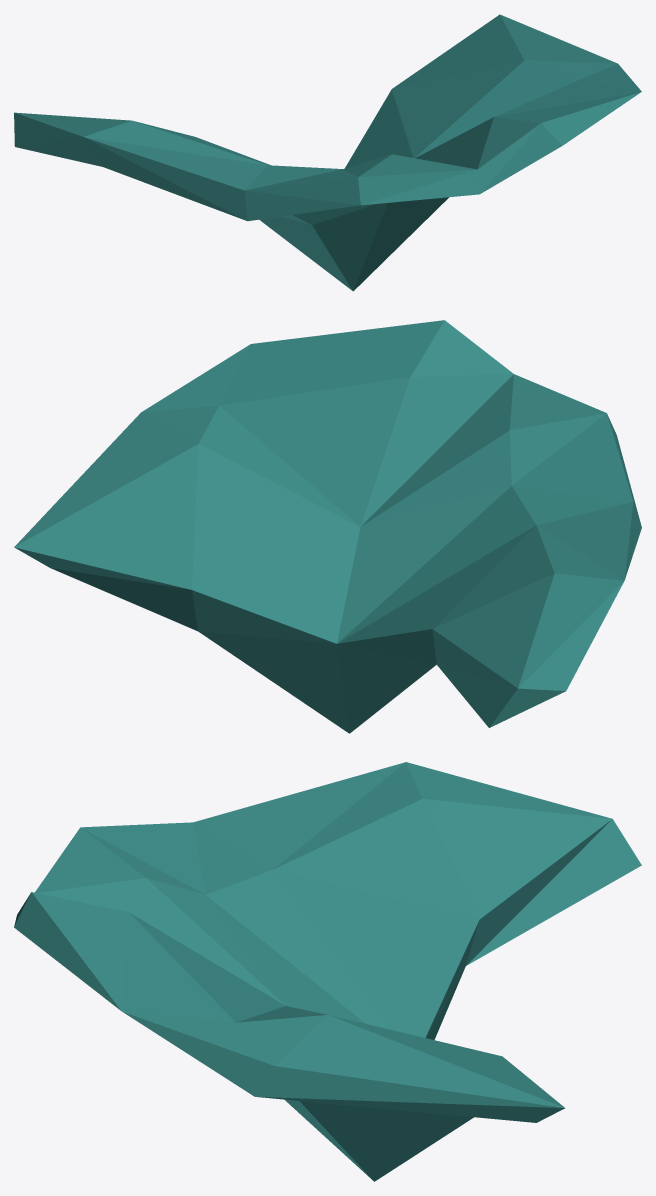
File: SM_Coral_Plate_A.fbx
3 renders of one model, top to bottom at view 1: azimuth 30°, elevation 25°; view 2: azimuth 150°, elevation 25°; view 3: azimuth 270°, elevation 25°, orthographic. The views are drawn at different scales.
Visible parts, largest first — view 1: coral-plate-a; view 2: coral-plate-a; view 3: coral-plate-a.
Boxes of the visible parts, x1,y1,x2,y2 form: coral-plate-a: (14, 14, 641, 291); coral-plate-a: (14, 320, 641, 733); coral-plate-a: (14, 762, 641, 1181).
Size of the model in its own units: 0.7202 by 0.3545 by 0.6271.
